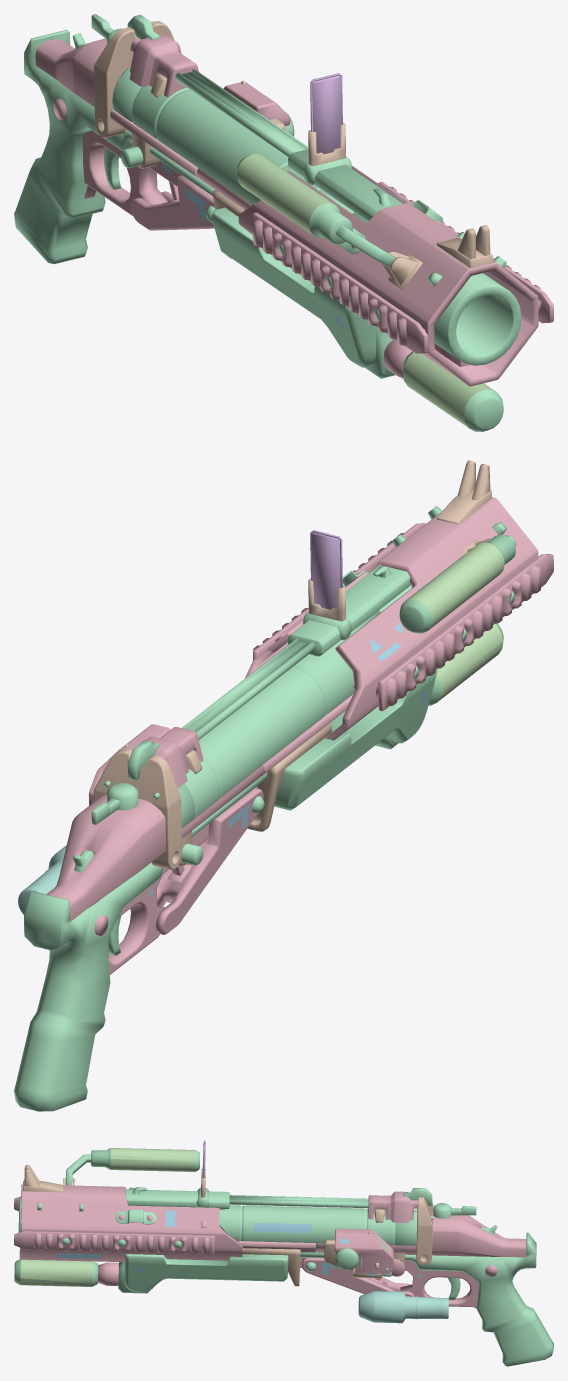
3 views of the same model, one above another, from view 1: azimuth 30°, elevation 25°; view 2: azimuth 150°, elevation 25°; view 3: azimuth 270°, elevation 25° (orthographic). The views are drawn at different scales.
Parts seen in each view (by area): view 1: v_grenade_launcher_v_shotgun_spas_reference.004, v_grenade_launcher_v_shotgun_spas_reference.003, v_grenade_launcher_v_shotgun_spas_reference.002, v_grenade_launcher_v_shotgun_spas_reference.007, v_grenade_launcher_v_shotgun_spas_reference; view 2: v_grenade_launcher_v_shotgun_spas_reference.004, v_grenade_launcher_v_shotgun_spas_reference.003, v_grenade_launcher_v_shotgun_spas_reference.002, v_grenade_launcher_v_shotgun_spas_reference.007, v_grenade_launcher_v_shotgun_spas_reference, v_grenade_launcher_v_shotgun_spas_reference.001; view 3: v_grenade_launcher_v_shotgun_spas_reference.004, v_grenade_launcher_v_shotgun_spas_reference.003, v_grenade_launcher_v_shotgun_spas_reference.007, v_grenade_launcher_v_shotgun_spas_reference.002, v_grenade_launcher_v_shotgun_spas_reference.001, v_grenade_launcher_v_shotgun_spas_reference.005.
Part boxes in pixels (box(x1,y1,x2,y2)): v_grenade_launcher_v_shotgun_spas_reference.004: box(14, 14, 521, 431); v_grenade_launcher_v_shotgun_spas_reference.003: box(35, 34, 553, 386); v_grenade_launcher_v_shotgun_spas_reference.002: box(94, 21, 492, 289); v_grenade_launcher_v_shotgun_spas_reference.007: box(236, 154, 495, 427); v_grenade_launcher_v_shotgun_spas_reference: box(310, 73, 342, 154); v_grenade_launcher_v_shotgun_spas_reference.004: box(14, 506, 516, 1111); v_grenade_launcher_v_shotgun_spas_reference.003: box(46, 497, 553, 974); v_grenade_launcher_v_shotgun_spas_reference.002: box(94, 460, 491, 870); v_grenade_launcher_v_shotgun_spas_reference.007: box(405, 542, 504, 701); v_grenade_launcher_v_shotgun_spas_reference: box(310, 530, 342, 609); v_grenade_launcher_v_shotgun_spas_reference.001: box(18, 845, 66, 914); v_grenade_launcher_v_shotgun_spas_reference.004: box(14, 1148, 553, 1366); v_grenade_launcher_v_shotgun_spas_reference.003: box(14, 1184, 526, 1308); v_grenade_launcher_v_shotgun_spas_reference.007: box(20, 1148, 195, 1286); v_grenade_launcher_v_shotgun_spas_reference.002: box(23, 1165, 432, 1286); v_grenade_launcher_v_shotgun_spas_reference.001: box(358, 1291, 448, 1323); v_grenade_launcher_v_shotgun_spas_reference.005: box(58, 1210, 423, 1278).
Size of the model in its own units: 963 by 1664 by 3741.
